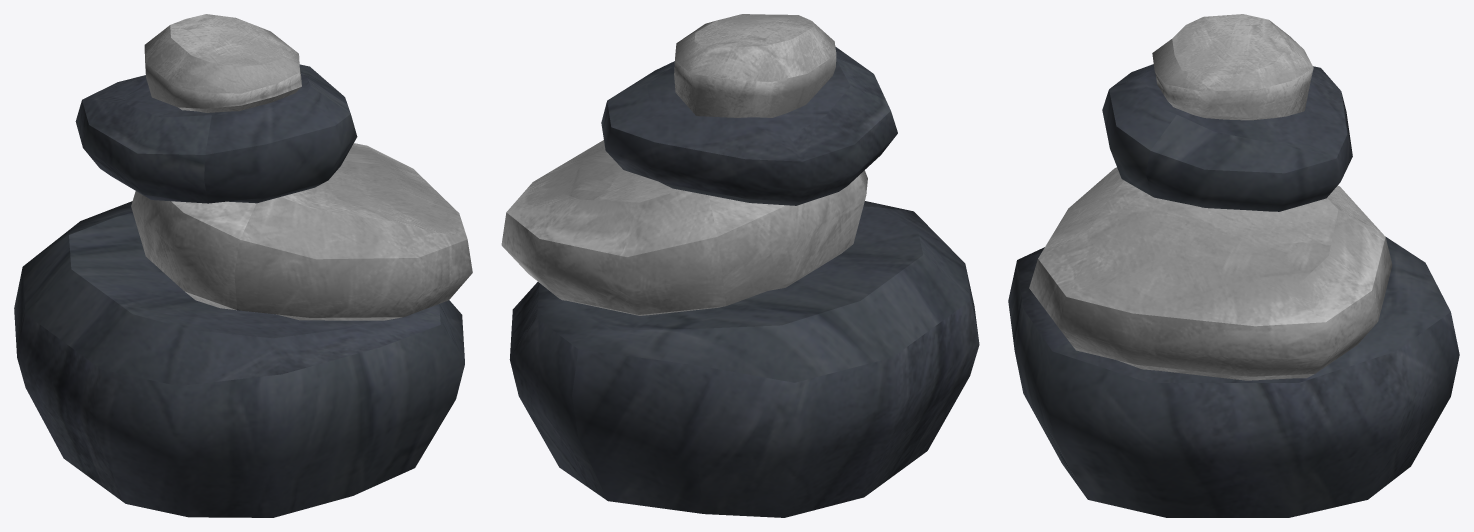
File: StandPedestal01.glb
3 renders of one model, left to right at view 1: azimuth 30°, elevation 25°; view 2: azimuth 150°, elevation 25°; view 3: azimuth 270°, elevation 25°, orthographic. The views are drawn at different scales.
Parts seen in each view (by area): view 1: StandPedestal01; view 2: StandPedestal01; view 3: StandPedestal01.
Part boxes in pixels (x1=…): StandPedestal01: x1=14, y1=14, x2=472, y2=517; StandPedestal01: x1=501, y1=14, x2=979, y2=517; StandPedestal01: x1=1008, y1=14, x2=1459, y2=517.
Size of what is drawn, in the model's own units: 0.7963 by 0.8249 by 0.8302.
Materials: 1 (1 with a texture image).
